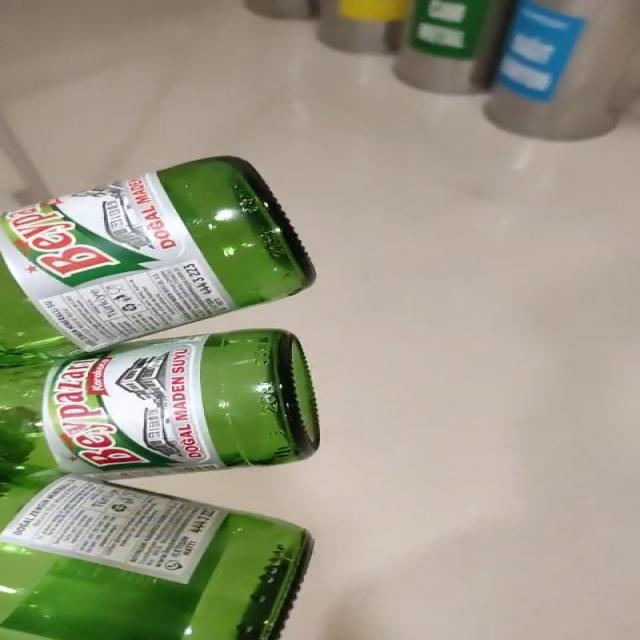Glass: (1, 156, 319, 640)
